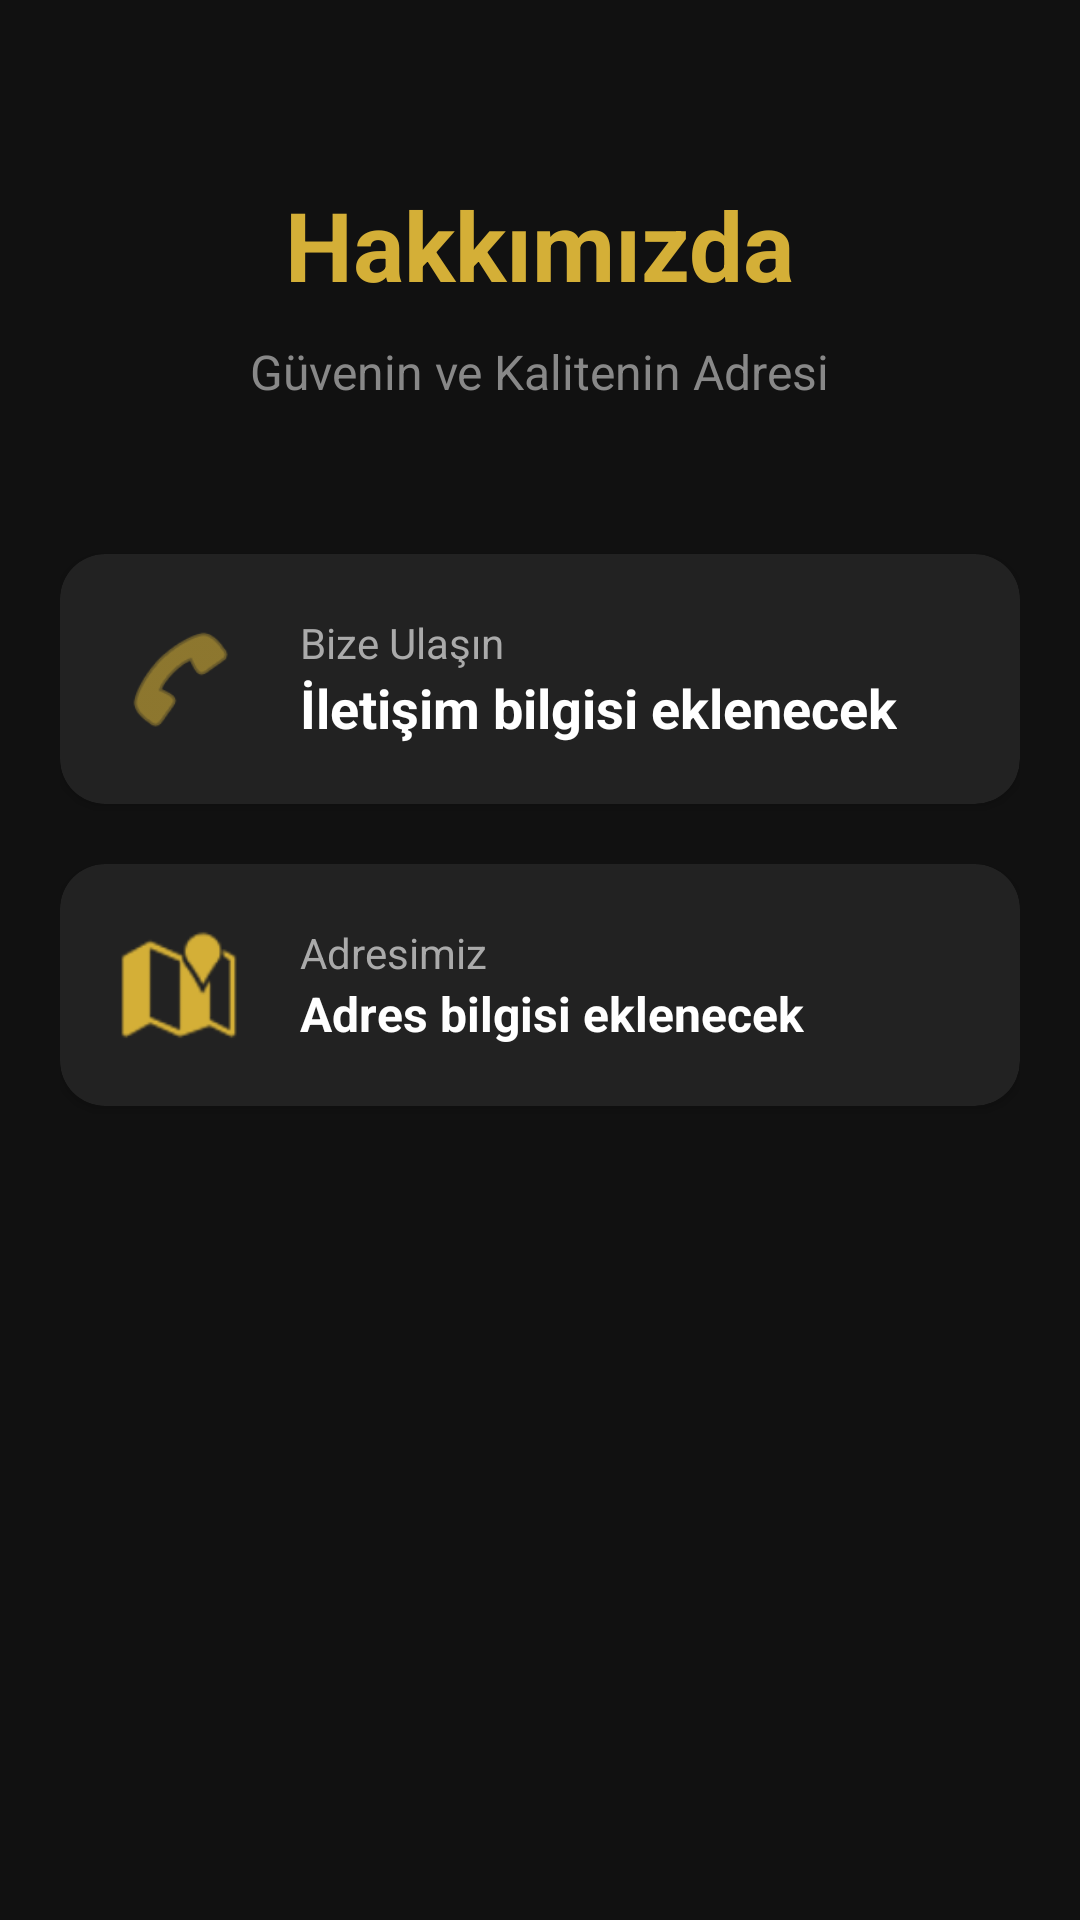

Icon bounding boxes for this 1080px x 1920px phone screenshot, format BBox(x1, y1, x2, y2):
call: BBox(134, 633, 227, 726)
map: BBox(121, 932, 236, 1038)
